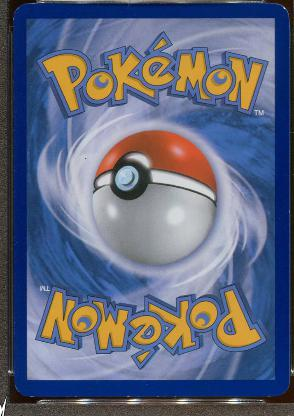Card: (11, 1, 289, 401)
Corner Wear: (12, 2, 38, 20), (275, 3, 287, 18), (14, 384, 20, 392)
Edge Wear: (125, 395, 195, 396), (265, 394, 272, 396), (64, 395, 77, 396), (28, 395, 36, 396)
